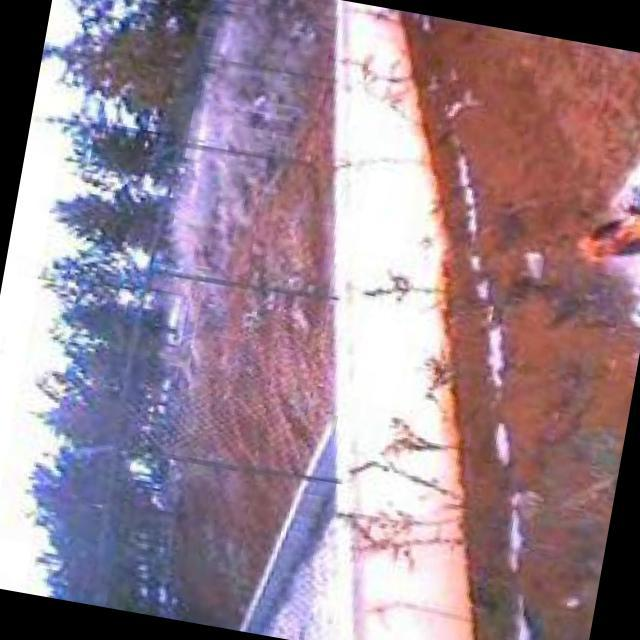Fire: (573, 173, 640, 275)
